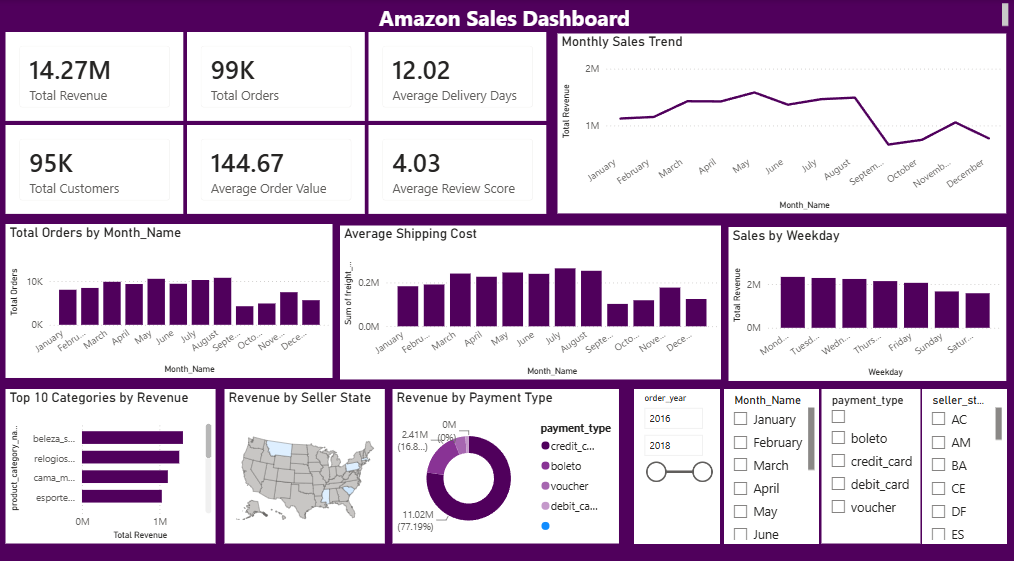

The dashboard page shown, as its layout file describes it:
{"tool":"powerbi","page":{"name":"Sales Dashboard","canvas":[1280,720],"ordinal":1},"visuals":[{"type":"textbox","box":[8,0,1270,42],"z":0},{"type":"cardVisual","title":"Revenue","fields":{"Data":["PowerBI_Dataset.Total Revenue"]},"box":[10,42,224,112],"z":1000},{"type":"cardVisual","title":"Orders","fields":{"Data":["PowerBI_Dataset.Total Orders"]},"box":[238,42,224,112],"z":2000},{"type":"cardVisual","fields":{"Data":["PowerBI_Dataset.Average Order Value"]},"box":[238,158,224,112],"z":3000},{"type":"cardVisual","fields":{"Data":["PowerBI_Dataset.Average Review Score"]},"box":[466,158,224,112],"z":4000},{"type":"cardVisual","fields":{"Data":["PowerBI_Dataset.Total Customers"]},"box":[10,158,224,112],"z":5000},{"type":"cardVisual","fields":{"Data":["PowerBI_Dataset.Average Delivery Days"]},"box":[466,42,224,112],"z":6000},{"type":"lineChart","title":"Monthly Sales Trend","fields":{"Category":["PowerBI_Dataset.Month_Name"],"Y":["PowerBI_Dataset.Total Revenue"]},"box":[704.9,43.5,565,226.8],"z":7000},{"type":"clusteredColumnChart","fields":{"Category":["PowerBI_Dataset.Month_Name"],"Y":["PowerBI_Dataset.Total Orders"]},"box":[10,284,412,194],"z":8000},{"type":"clusteredBarChart","title":"Top 10 Categories by Revenue","fields":{"Category":["PowerBI_Dataset.product_category_name"],"Y":["PowerBI_Dataset.Total Revenue"]},"box":[9.4,491.3,264.6,194.6],"z":9000},{"type":"donutChart","title":"Revenue by Payment Type","fields":{"Category":["PowerBI_Dataset.payment_type"],"Y":["PowerBI_Dataset.Total Revenue"]},"box":[497,491.3,285.4,194.6],"z":10000},{"type":"shapeMap","title":"Revenue by Seller State","fields":{"Category":["PowerBI_Dataset.seller_state"],"Value":["PowerBI_Dataset.Total Revenue"]},"box":[285.4,491.3,202.2,194.6],"z":11000},{"type":"columnChart","title":"Average Shipping Cost","fields":{"Category":["PowerBI_Dataset.Month_Name"],"Y":["Sum(PowerBI_Dataset.freight_value)"]},"box":[430,286,480,194],"z":12000},{"type":"columnChart","title":"Sales by Weekday","fields":{"Category":["PowerBI_Dataset.Weekday"],"Y":["PowerBI_Dataset.Total Revenue"]},"box":[920,288,350,194],"z":13000},{"type":"slicer","fields":{"Values":["PowerBI_Dataset.order_year"]},"box":[801.3,491.3,107.7,194.6],"z":14000},{"type":"slicer","fields":{"Values":["PowerBI_Dataset.seller_state"]},"box":[1164.1,491.3,105.8,194.6],"z":15000},{"type":"slicer","fields":{"Values":["PowerBI_Dataset.Month_Name"]},"box":[914.7,491.3,119.1,194.6],"z":16000},{"type":"slicer","fields":{"Values":["PowerBI_Dataset.payment_type"]},"box":[1037.5,491.3,124.7,194.6],"z":17000}]}

Visuals, with their boxes in screenshot pixels (x1, y1, x2, y2), scaled from the page's 1280x720 canvas onto the 1014x561 screenshot:
textbox: (6, 0, 1012, 33)
"Revenue" cardVisual: (8, 33, 185, 120)
"Orders" cardVisual: (189, 33, 366, 120)
cardVisual - PowerBI_Dataset.Average Order Value: (189, 123, 366, 210)
cardVisual - PowerBI_Dataset.Average Review Score: (369, 123, 547, 210)
cardVisual - PowerBI_Dataset.Total Customers: (8, 123, 185, 210)
cardVisual - PowerBI_Dataset.Average Delivery Days: (369, 33, 547, 120)
"Monthly Sales Trend" lineChart: (558, 34, 1006, 211)
clusteredColumnChart - PowerBI_Dataset.Month_Name x PowerBI_Dataset.Total Orders: (8, 221, 334, 372)
"Top 10 Categories by Revenue" clusteredBarChart: (7, 383, 217, 534)
"Revenue by Payment Type" donutChart: (394, 383, 620, 534)
"Revenue by Seller State" shapeMap: (226, 383, 386, 534)
"Average Shipping Cost" columnChart: (341, 223, 721, 374)
"Sales by Weekday" columnChart: (729, 224, 1006, 376)
slicer - PowerBI_Dataset.order_year: (635, 383, 720, 534)
slicer - PowerBI_Dataset.seller_state: (922, 383, 1006, 534)
slicer - PowerBI_Dataset.Month_Name: (725, 383, 819, 534)
slicer - PowerBI_Dataset.payment_type: (822, 383, 921, 534)
